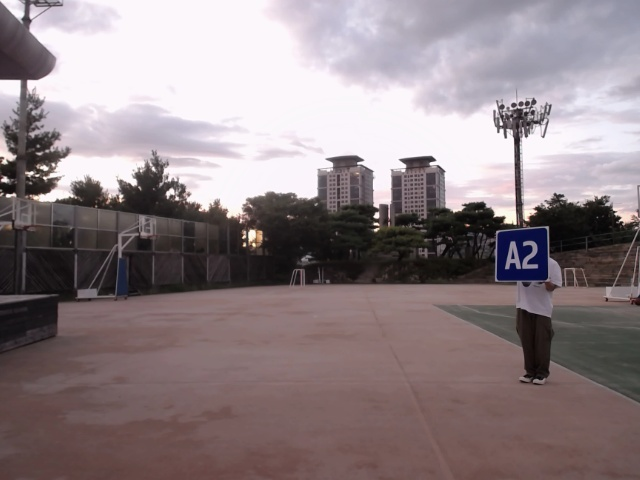delivery_a2: (496, 227, 549, 282)
